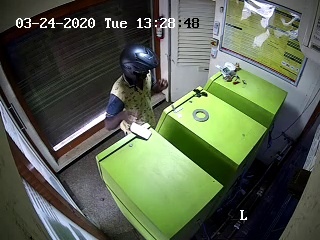helmet: (118, 44, 163, 85)
